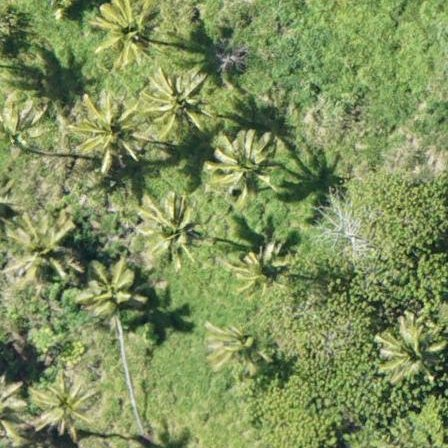palm_tree: (4, 213, 80, 290), (133, 195, 200, 267), (88, 1, 162, 66), (376, 315, 448, 381), (208, 131, 277, 199), (207, 317, 277, 381), (146, 70, 209, 137), (30, 372, 94, 437), (80, 260, 146, 323), (229, 245, 292, 297), (1, 100, 46, 156)
